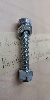FinishedAssembly: (13, 16, 37, 85)
